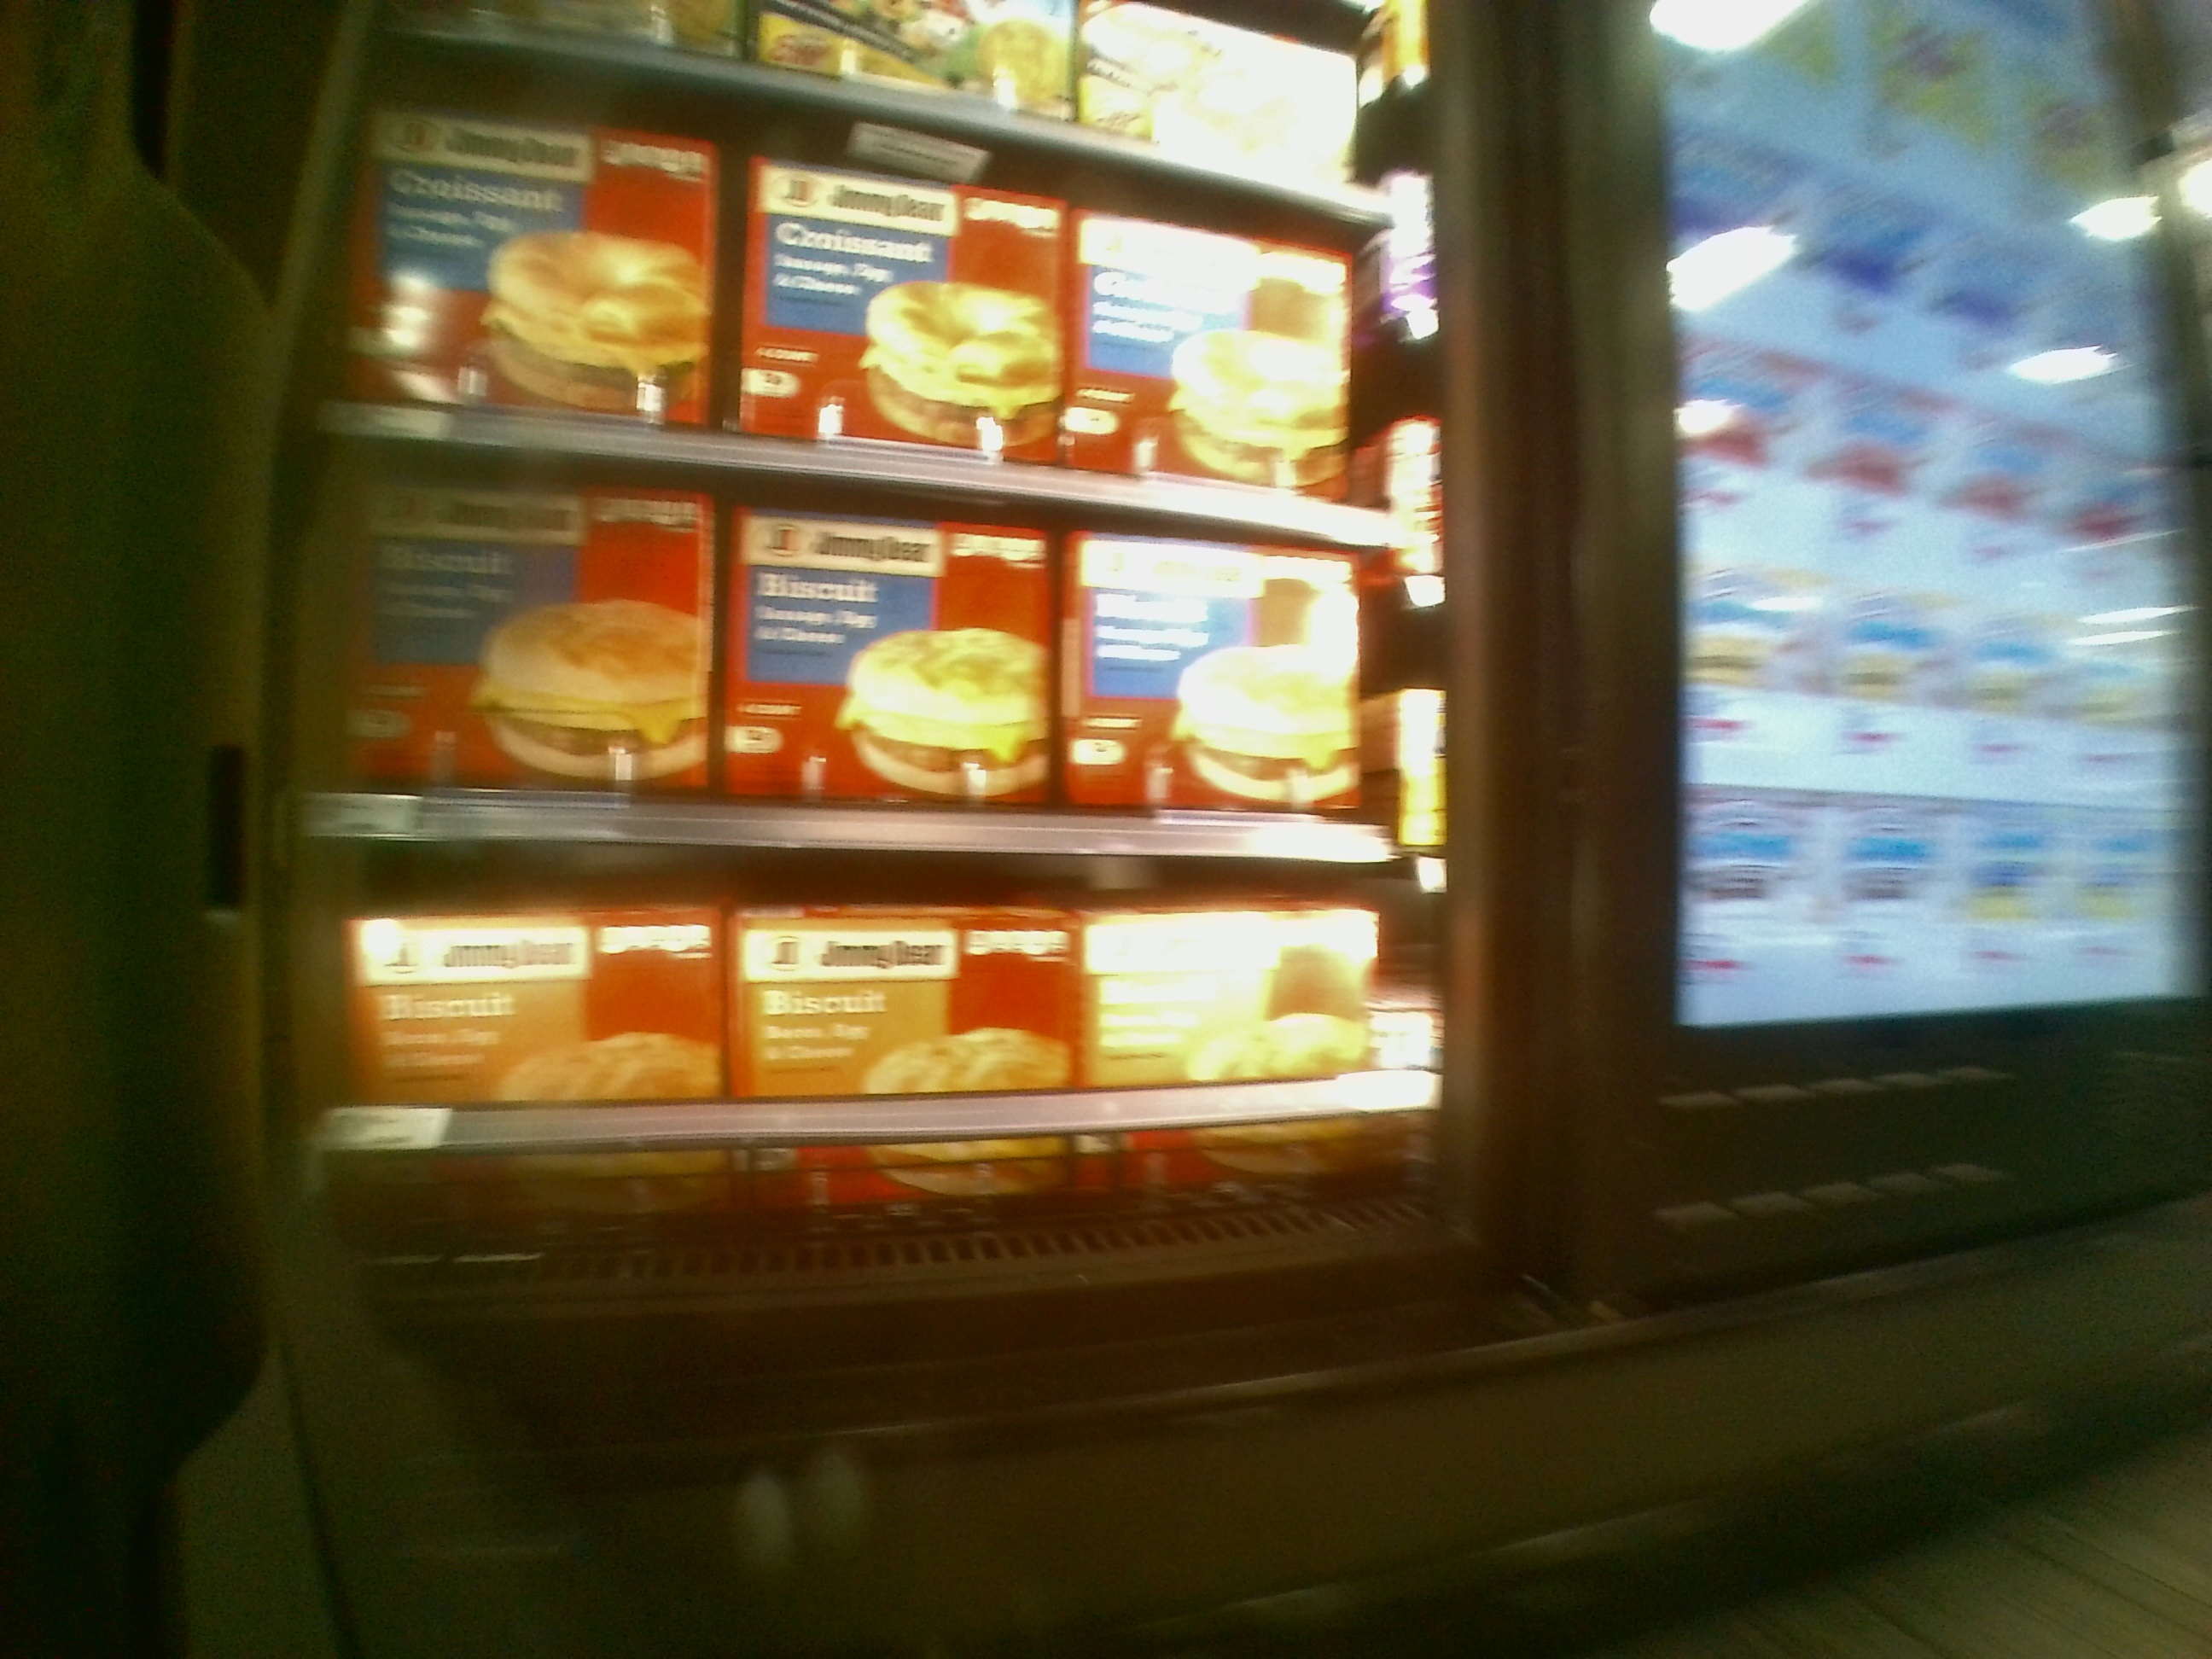shelf: (315, 443, 1435, 863), (291, 838, 1433, 1230)
